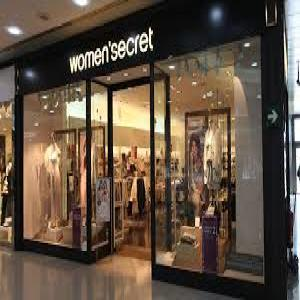women_secret: (58, 23, 164, 81)
